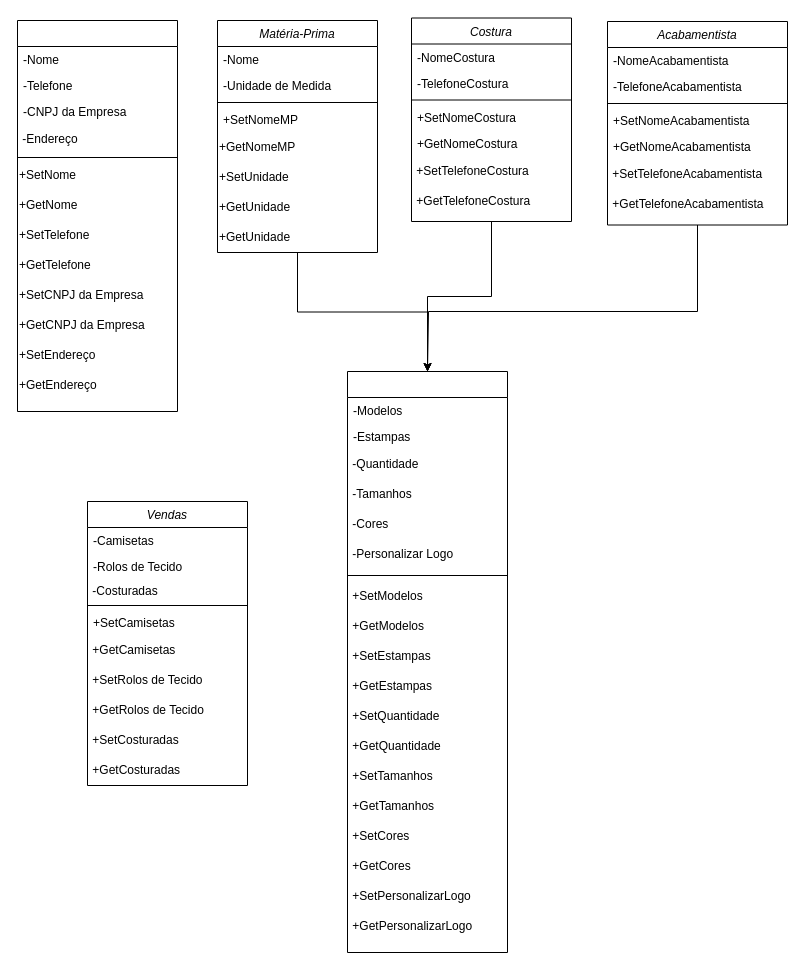
Image size: 805x970. Some labels were removed from this diagram. The shapes that lost their labels are listed below. From the top down, each one's box as (x1, y1, x2, y2) in pixels, then its label:
(16, 20, 178, 412): Cliente
(346, 370, 508, 952): Produtos
